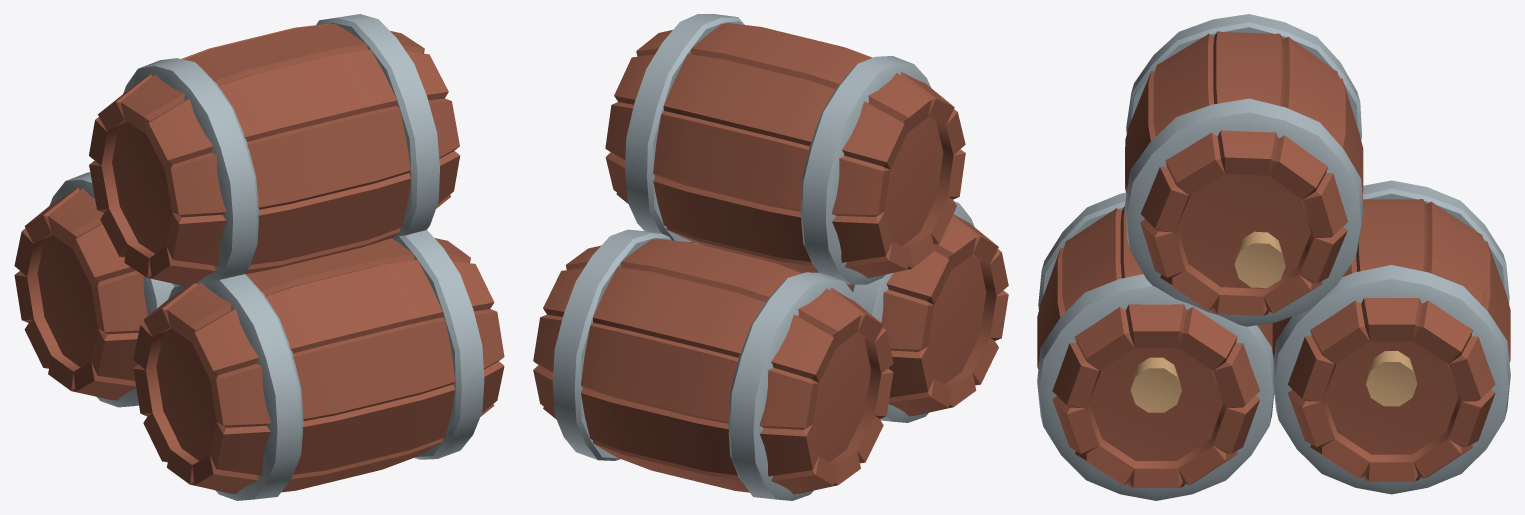
Rendered from barrels.gltf.glb.
3 views of the same model, side by side, from view 1: azimuth 30°, elevation 25°; view 2: azimuth 150°, elevation 25°; view 3: azimuth 270°, elevation 25° (orthographic). The views are drawn at different scales.
Visible parts, largest first — view 1: barrels; view 2: barrels; view 3: barrels.
Boxes of the visible parts, x1,y1,x2,y2 form: barrels: [14, 14, 504, 500]; barrels: [533, 14, 1008, 500]; barrels: [1037, 14, 1510, 500].
Size of the model in its own units: 0.7847 by 1.01 by 1.1.
